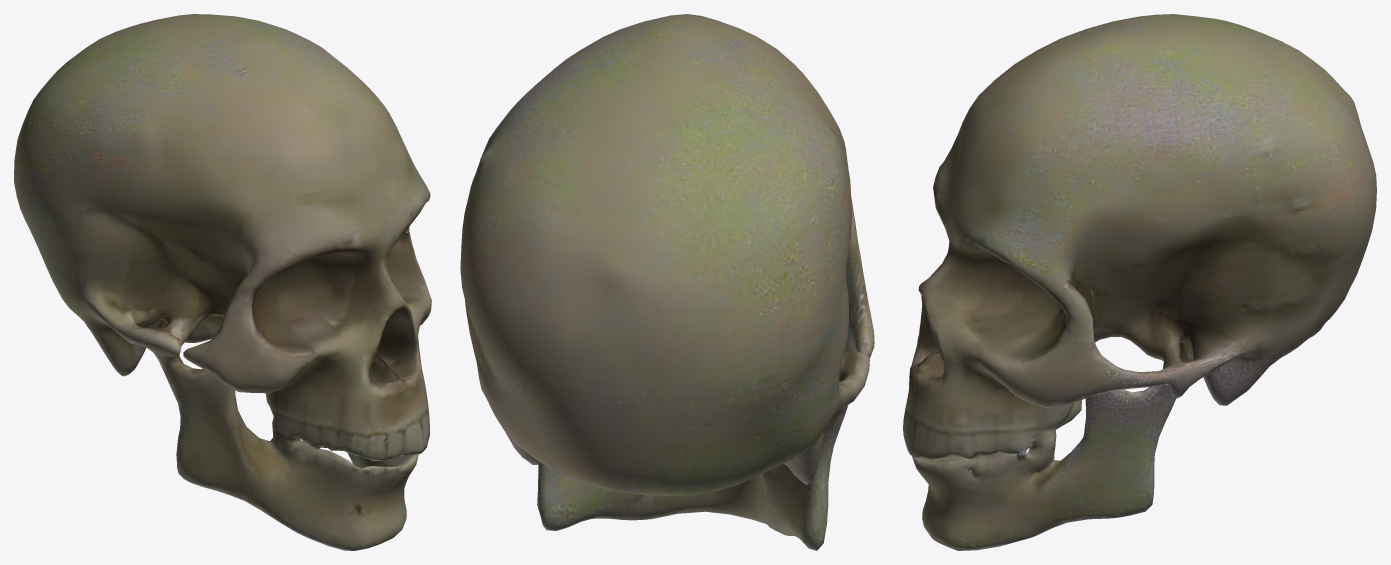
The model's file is scaring_skull_textured_frame_000000.glb.
3 views of the same model, side by side, from view 1: azimuth 30°, elevation 25°; view 2: azimuth 150°, elevation 25°; view 3: azimuth 270°, elevation 25° (orthographic). The views are drawn at different scales.
Parts seen in each view (by area): view 1: geometry_0; view 2: geometry_0; view 3: geometry_0.
Part boxes in pixels (left/top/right/bottom): geometry_0: left=14, top=14, right=431, bottom=550; geometry_0: left=460, top=14, right=874, bottom=550; geometry_0: left=903, top=14, right=1376, bottom=550.
Bounding box in the file's own units: 1.34 × 1.88 × 1.69.
1 material, 1 textured.
